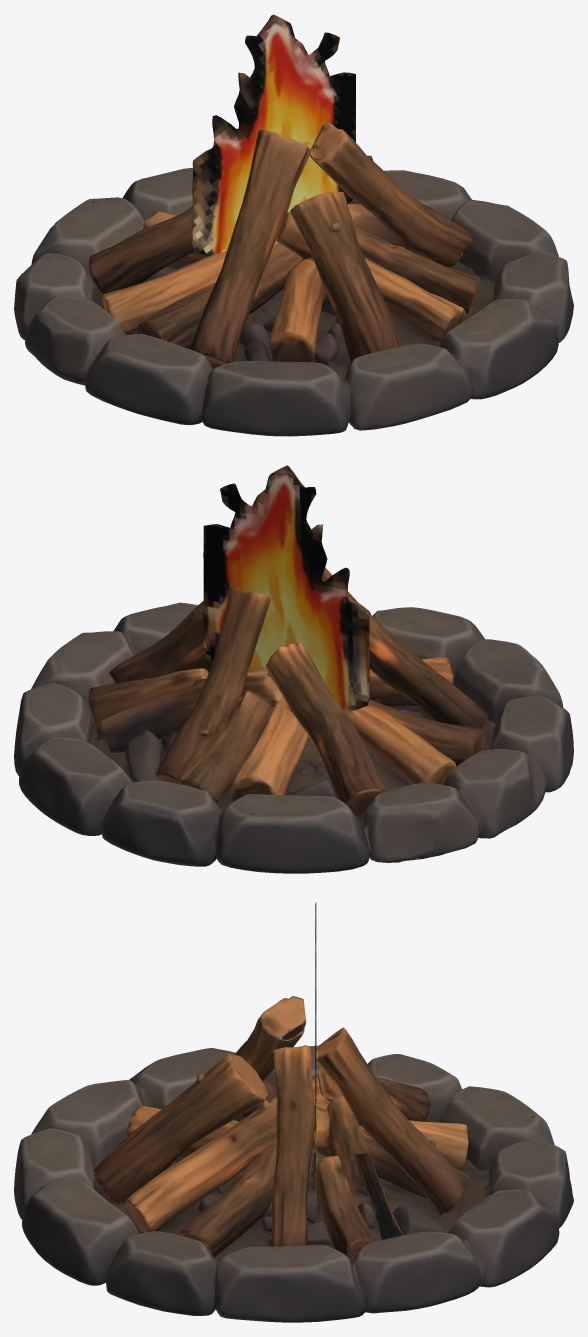
Rendered from fogata_lena.glb.
3 views of the same model, one above another, from view 1: azimuth 30°, elevation 25°; view 2: azimuth 150°, elevation 25°; view 3: azimuth 270°, elevation 25° (orthographic).
Visible parts, largest first — view 1: geometry_0; view 2: geometry_0; view 3: geometry_0.
Part boxes in pixels (box(x1,y1,x2,y2)): geometry_0: box(14, 14, 573, 436); geometry_0: box(14, 465, 573, 873); geometry_0: box(14, 902, 573, 1322).
Size of the model in its own units: 0.9765 by 0.5888 by 0.9851.
Materials: 1 (1 with a texture image).
